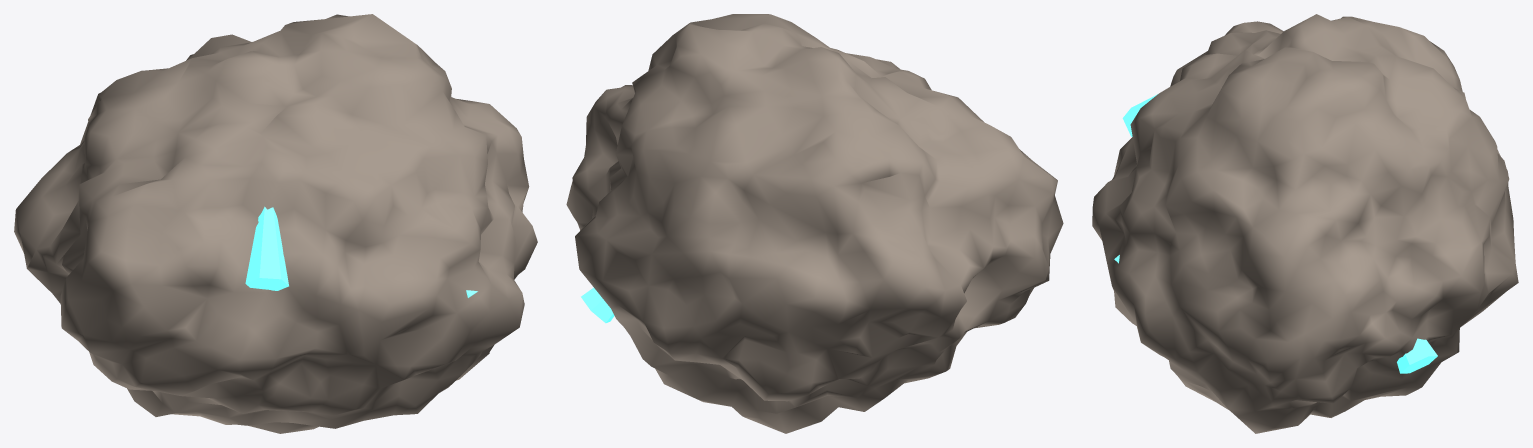
Rendered from asteroid1.glb.
3 views of the same model, side by side, from view 1: azimuth 30°, elevation 25°; view 2: azimuth 150°, elevation 25°; view 3: azimuth 270°, elevation 25° (orthographic). The views are drawn at different scales.
Visible parts, largest first — view 1: Icosphere, cr.001; view 2: Icosphere, cr.002; view 3: Icosphere, cr.002.
Boxes of the visible parts, left/top/right/bottom form: Icosphere: left=14, top=14, right=537, bottom=433; cr.001: left=245, top=206, right=288, bottom=290; Icosphere: left=566, top=14, right=1063, bottom=433; cr.002: left=581, top=287, right=614, bottom=323; Icosphere: left=1092, top=14, right=1518, bottom=433; cr.002: left=1397, top=338, right=1437, bottom=373.
Size of the model in its own units: 2.97 by 2.28 by 2.43.
